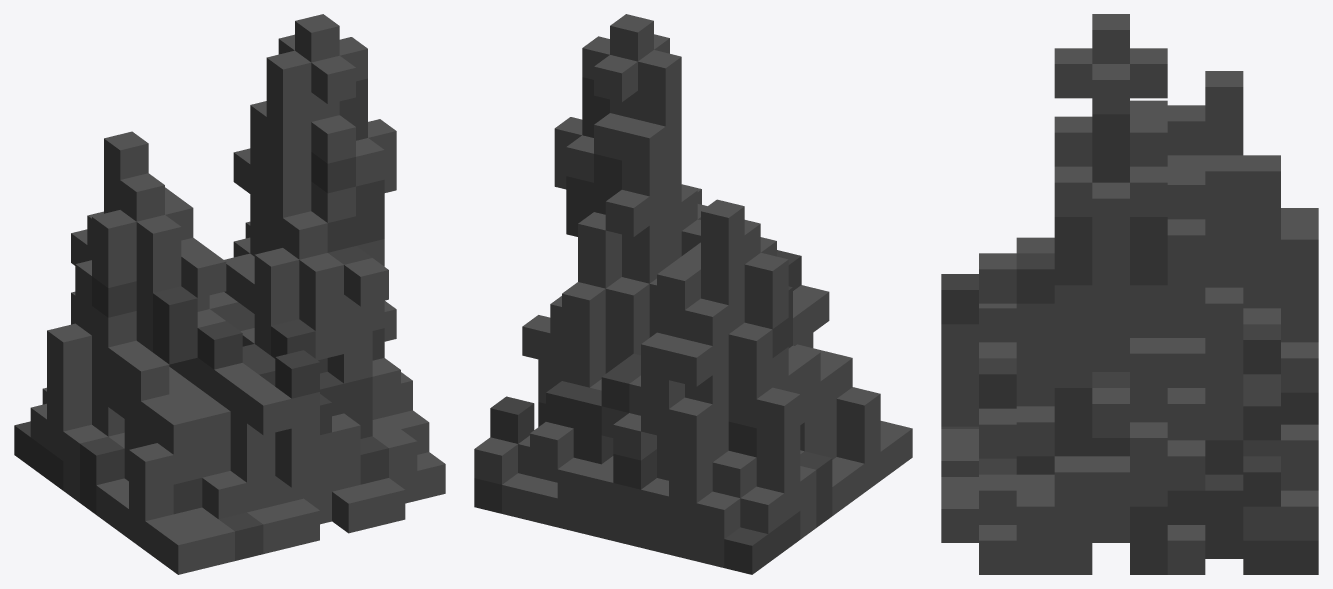
File: Boden-mitte-spitze-00.obj
3 views of the same model, side by side, from view 1: azimuth 30°, elevation 25°; view 2: azimuth 150°, elevation 25°; view 3: azimuth 270°, elevation 25° (orthographic). The views are drawn at different scales.
Bounding box in the file's own units: 1 × 1.5 × 1.
Materials: 1 (1 with a texture image).
